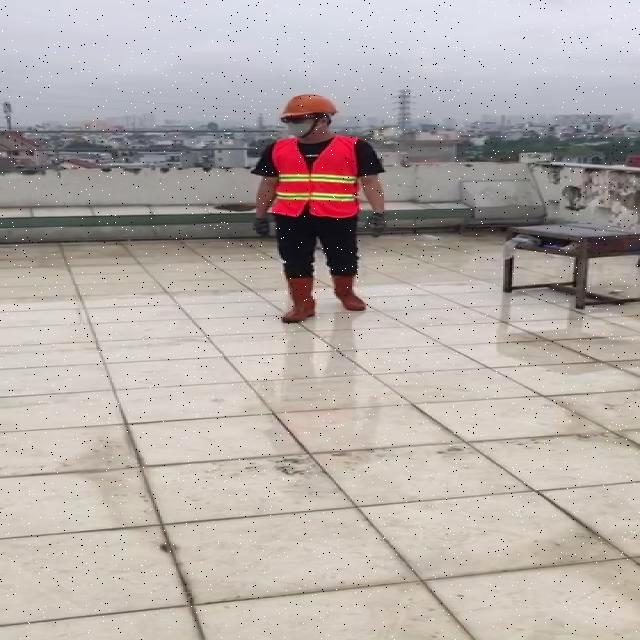Hard_hat: (276, 91, 343, 126)
Vest: (267, 136, 360, 223)
